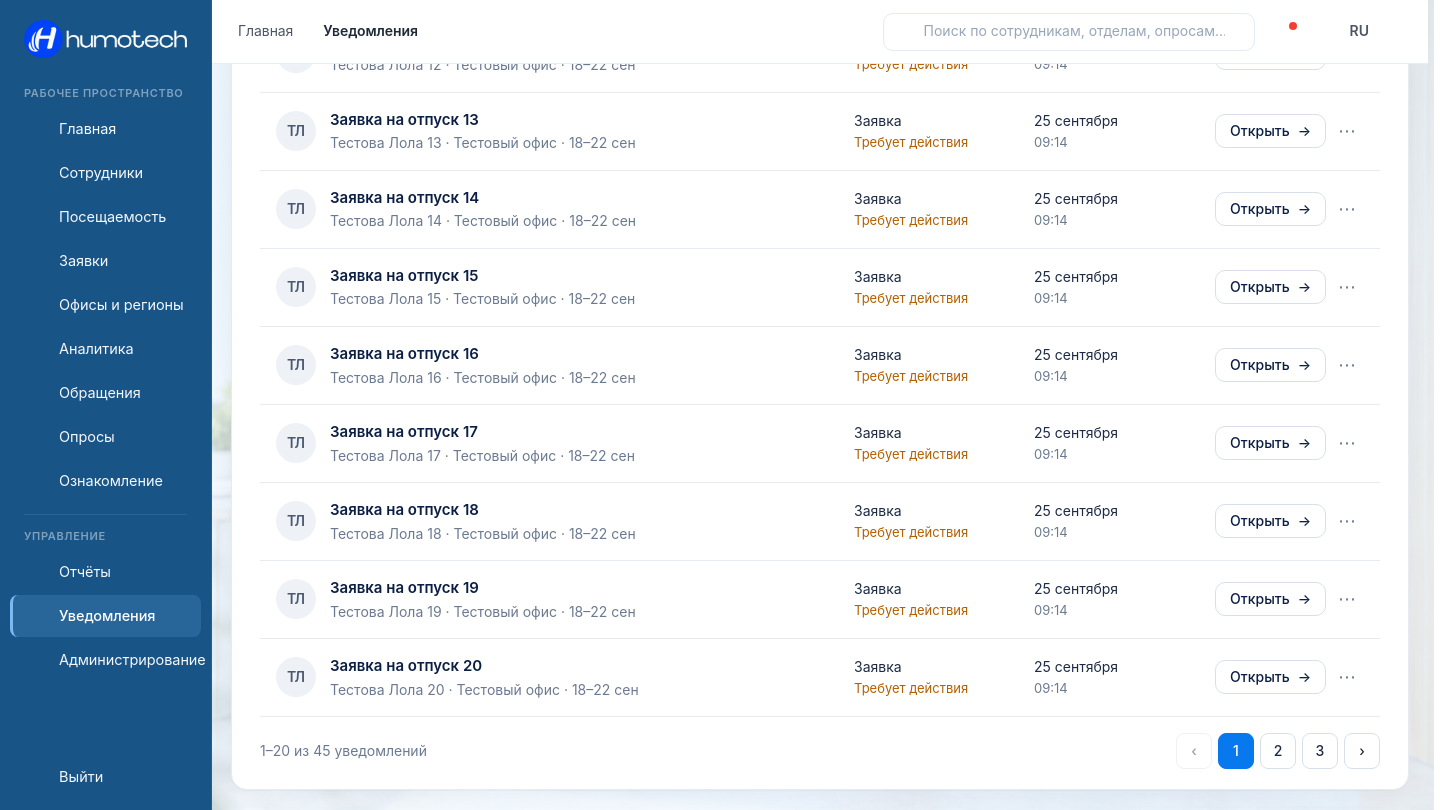
Test case: лента событий › дальняя страница — одним запросом с настоящим курсором
(page scrolled)
Click the button named "Страница 3": (1320, 751) [1302,733,1338,769]
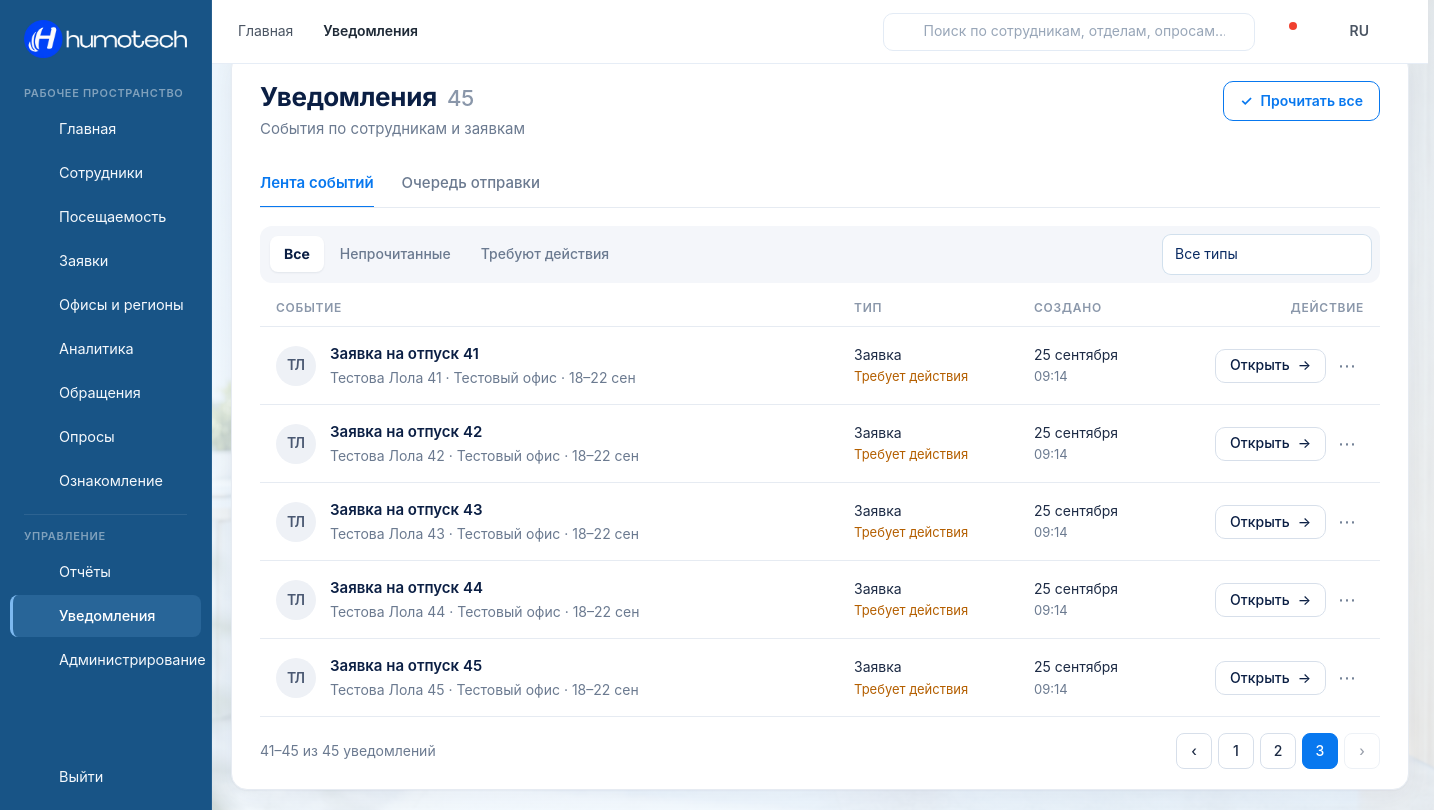
Expected: the text "41–45 из 45 уведомлений" is shown, [260,741,436,762]
Expected: the number of list items with test id "feed-row" is 5, [260,327,1380,405]; [260,405,1380,483]; [260,483,1380,561]; [260,561,1380,639]; [260,639,1380,717]
Expected: the text "Заявка на отпуск 41" is shown, [330,343,479,365]
